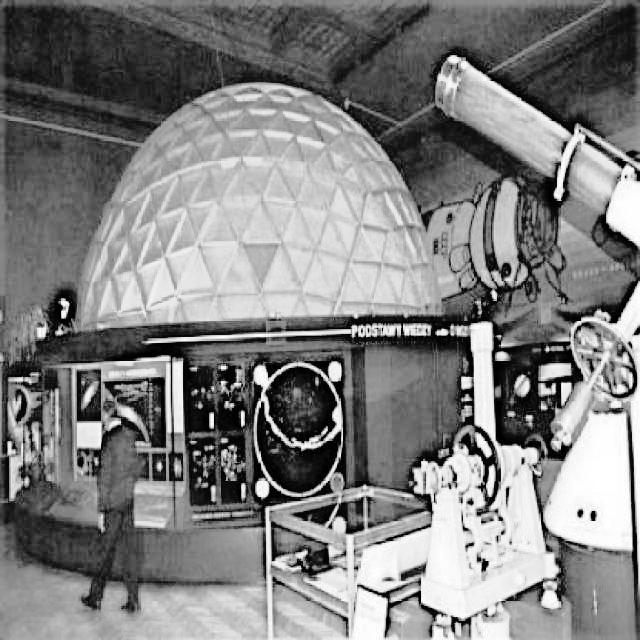Person: (74, 393, 148, 618)
